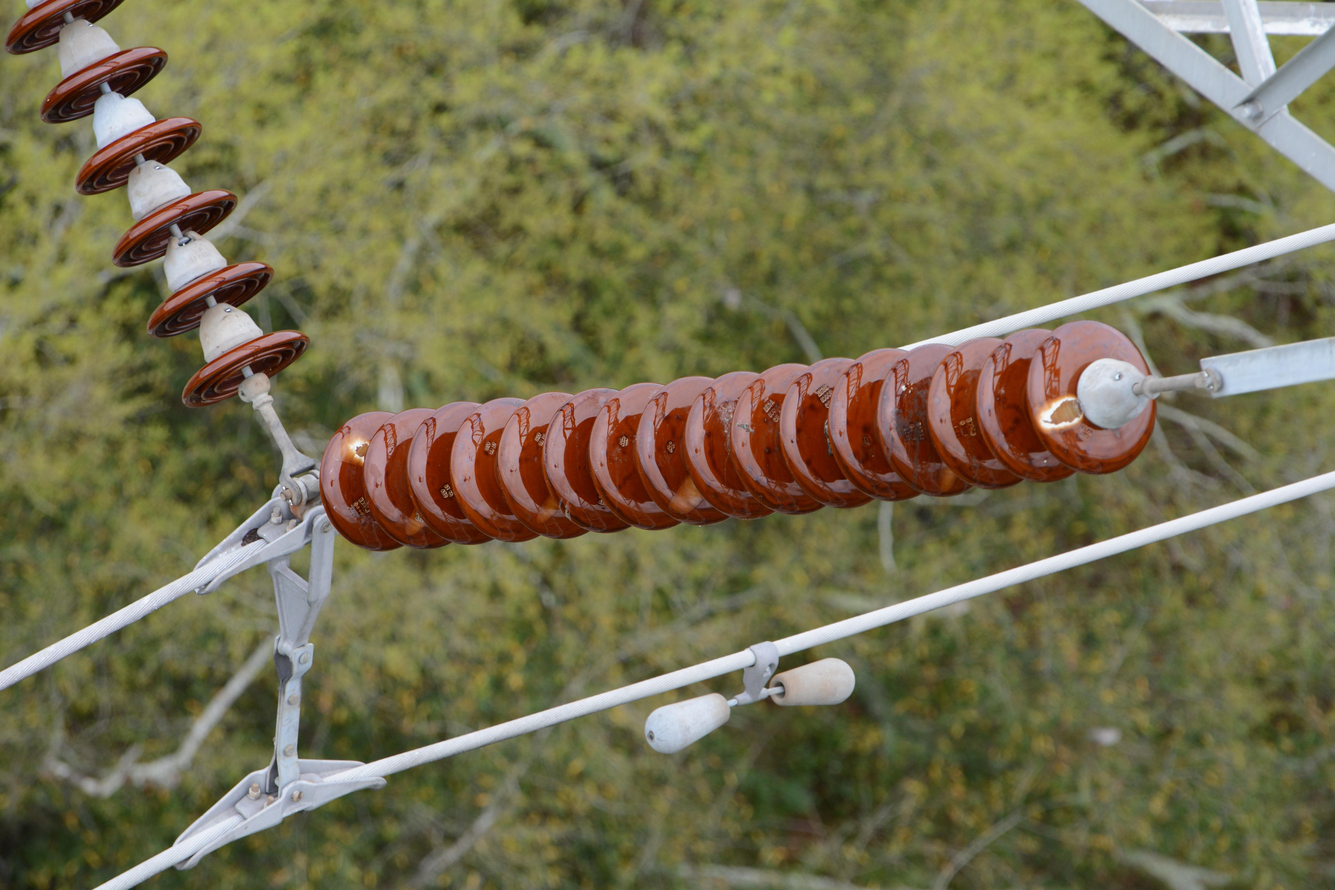Flashover: (1031, 393, 1083, 434), (664, 473, 706, 517), (339, 432, 378, 473), (932, 456, 962, 493), (403, 504, 433, 540), (532, 492, 566, 523)
hammer: (642, 617, 856, 753)
insulator: (317, 320, 1153, 553), (9, 6, 308, 403)
